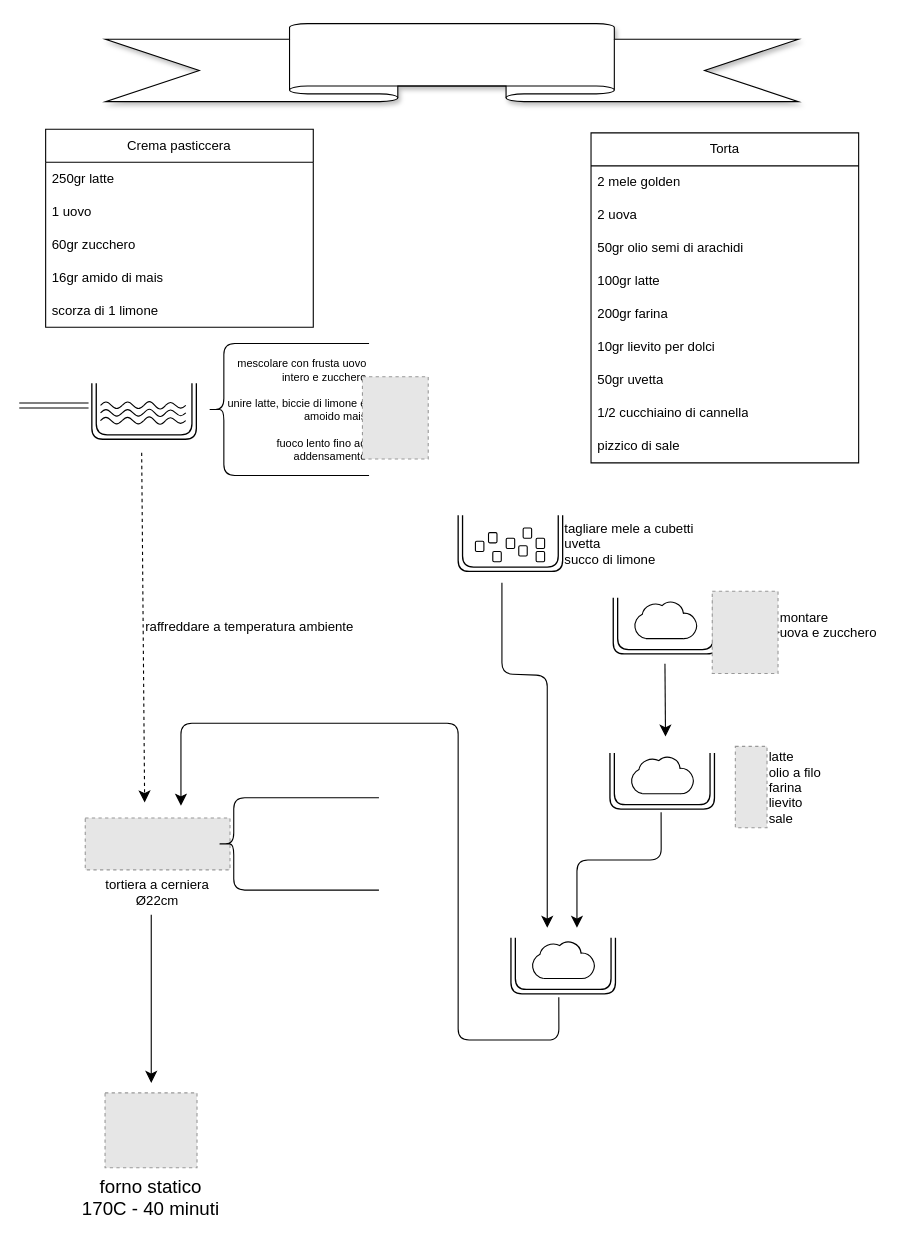
Image size: 898x1239. Some labels were removed from this diagram. Grey dashed boxes stand in for pictures. Here are the shapes that lost their labels. From the top down, the centre of each, then its label:
At [452,63]: "Torta di mele con crema pasticcera".
At [297,843]: "versare impasto e livellare spargere sopra la crema pasticcera".
